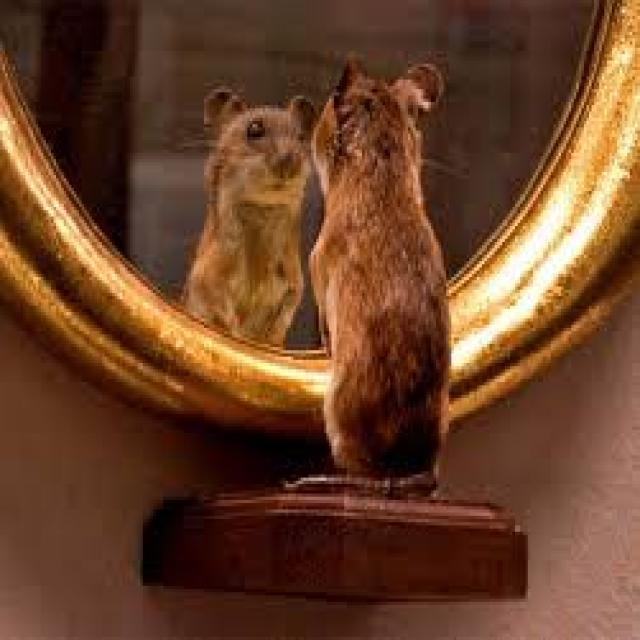Rat: (291, 61, 481, 493)
